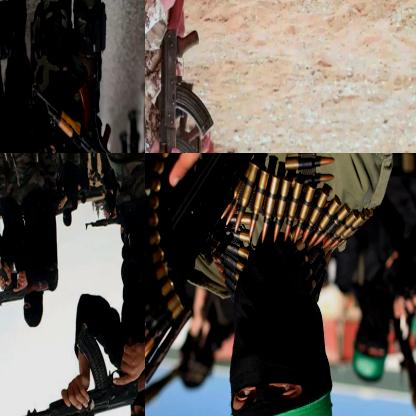rifle: (145, 153, 258, 415), (0, 322, 144, 415), (156, 0, 217, 152), (28, 67, 115, 152), (0, 269, 51, 318), (81, 207, 124, 230)
